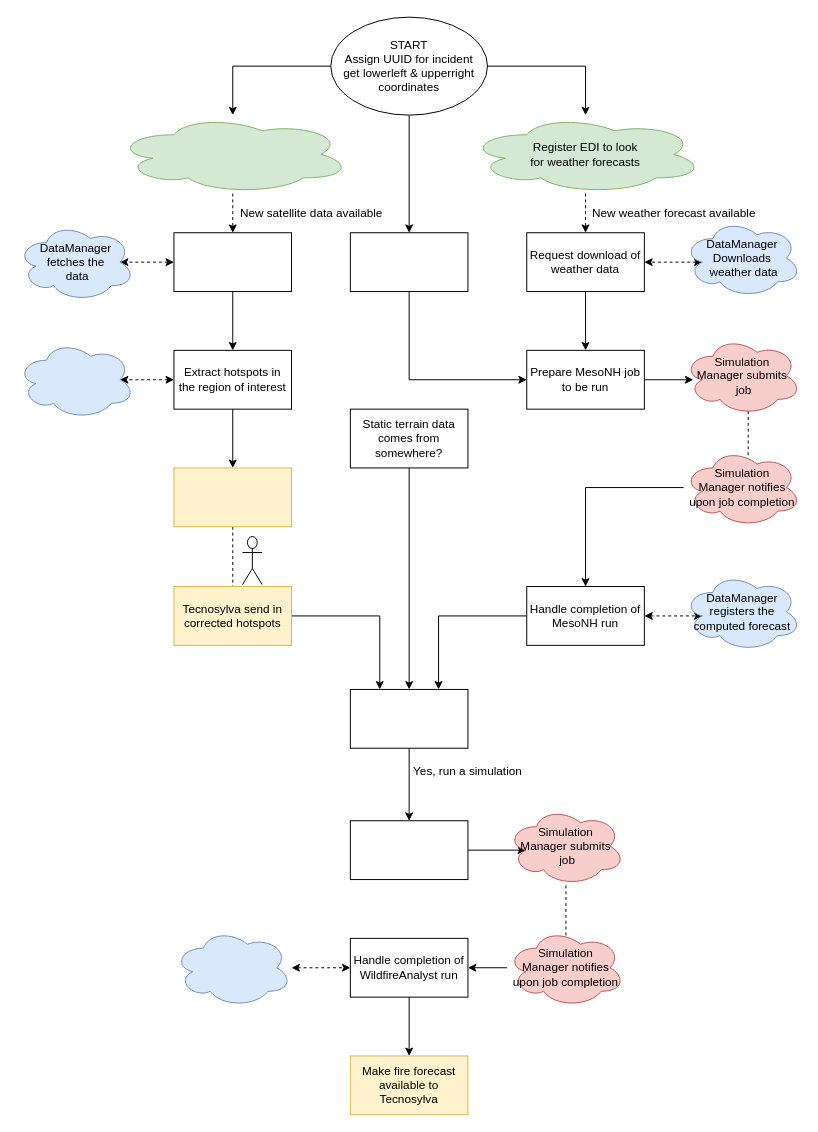
The diagram is 818 pixels wide and 1132 high, and some of its shapes have lost their labels. The centre of each missing label's shape, as x and y in pixels:
"DataManager registers the results" belongs at (232,967).
"DataManager stores the extracted hotspots" belongs at (75,379).
"Decide whether to run new wildfire analyst simulation or wait for more data" belongs at (408,718).
"Make hotspots available to Tecnosylva" belongs at (232,497).
"Prepare MesoNH physiographic data for incident" belongs at (408,262).
"Prepare Wildfire Analyst job to be run" belongs at (408,850).
"Register EDI to look for satellite hotspot data" belongs at (232,154).
"Request download of new satellite data" belongs at (232,262).
